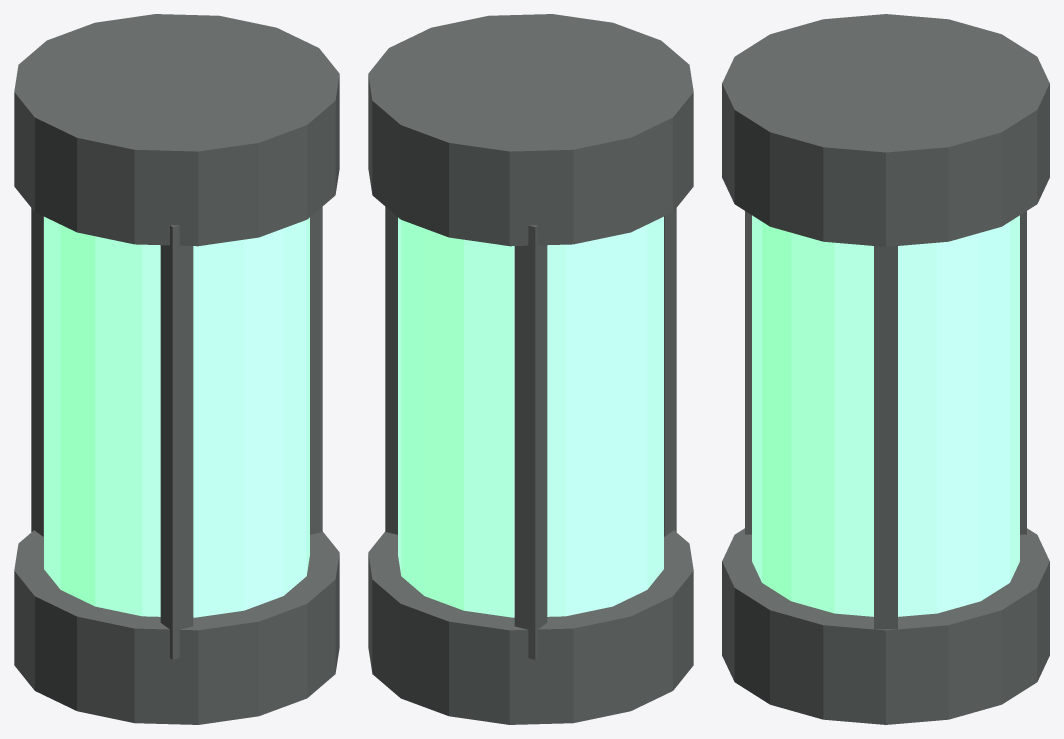
Rendered from prop-toxic-vat.glb.
The picture shows the model from 3 angles, left to right: view 1: azimuth 30°, elevation 25°; view 2: azimuth 150°, elevation 25°; view 3: azimuth 270°, elevation 25°; orthographic projection.
Visible parts, largest first — view 1: Cylinder.001, Cylinder.002, Cylinder, Cube.002, Cube, Cube.001; view 2: Cylinder.001, Cylinder.002, Cylinder, Cube.001, Cube, Cube.002; view 3: Cylinder.001, Cylinder.002, Cylinder, Cube, Cube.001, Cube.002.
Boxes of the visible parts, left/top/right/bottom form: Cylinder.001: left=44, top=216, right=309, bottom=617; Cylinder.002: left=14, top=14, right=339, bottom=246; Cylinder: left=14, top=530, right=339, bottom=724; Cube.002: left=160, top=225, right=193, bottom=659; Cube: left=310, top=207, right=322, bottom=534; Cube.001: left=31, top=208, right=43, bottom=536; Cylinder.001: left=398, top=216, right=663, bottom=617; Cylinder.002: left=368, top=14, right=693, bottom=246; Cylinder: left=368, top=530, right=693, bottom=724; Cube.001: left=514, top=225, right=547, bottom=659; Cube: left=385, top=207, right=397, bottom=534; Cube.002: left=664, top=208, right=676, bottom=536; Cylinder.001: left=752, top=215, right=1019, bottom=616; Cylinder.002: left=722, top=14, right=1049, bottom=246; Cylinder: left=722, top=528, right=1049, bottom=724; Cube: left=874, top=246, right=897, bottom=629; Cube.001: left=1020, top=211, right=1026, bottom=534; Cube.002: left=745, top=211, right=751, bottom=534.
Bounding box in the file's own units: 1.1 × 2.12 × 1.1.
